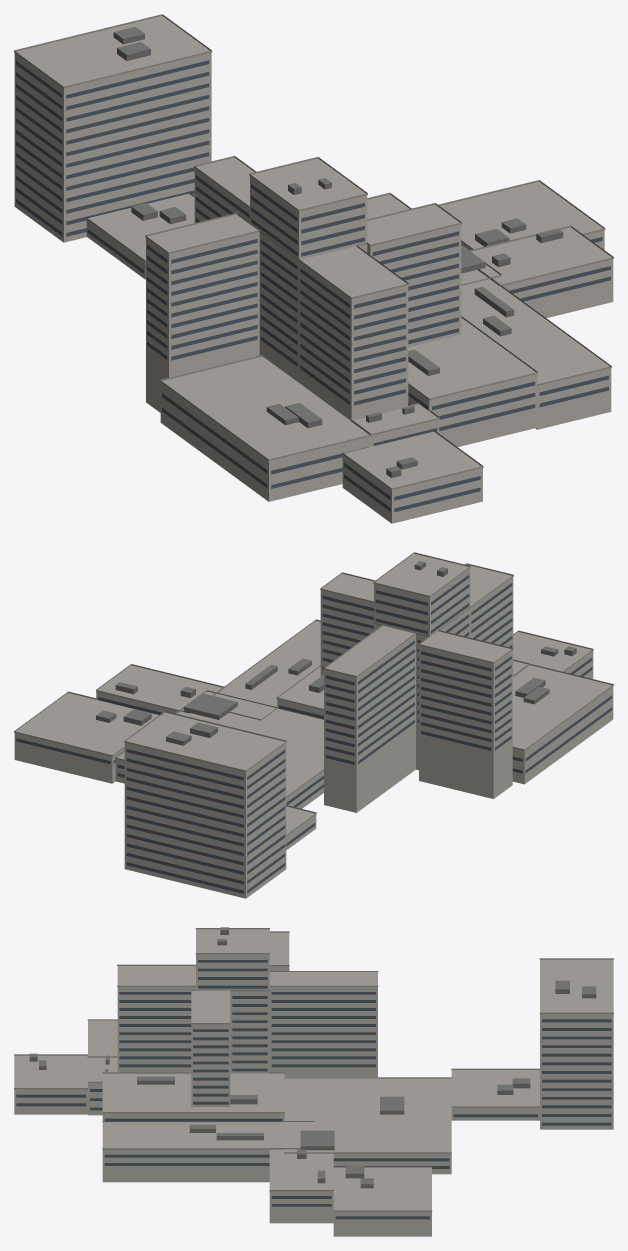
Rendered from baptist-medical-center.glb.
3 renders of one model, top to bottom at view 1: azimuth 30°, elevation 25°; view 2: azimuth 150°, elevation 25°; view 3: azimuth 270°, elevation 25°, orthographic. The views are drawn at different scales.
Parts seen in each view (by area): view 1: baptist_medical_center; view 2: baptist_medical_center; view 3: baptist_medical_center.
Boxes of the visible parts, box(x1,y1,x2,y2) form: baptist_medical_center: box(14, 14, 613, 523); baptist_medical_center: box(14, 552, 613, 898); baptist_medical_center: box(14, 927, 613, 1236).
Size of the model in its own units: 176 by 75.6 by 244.
